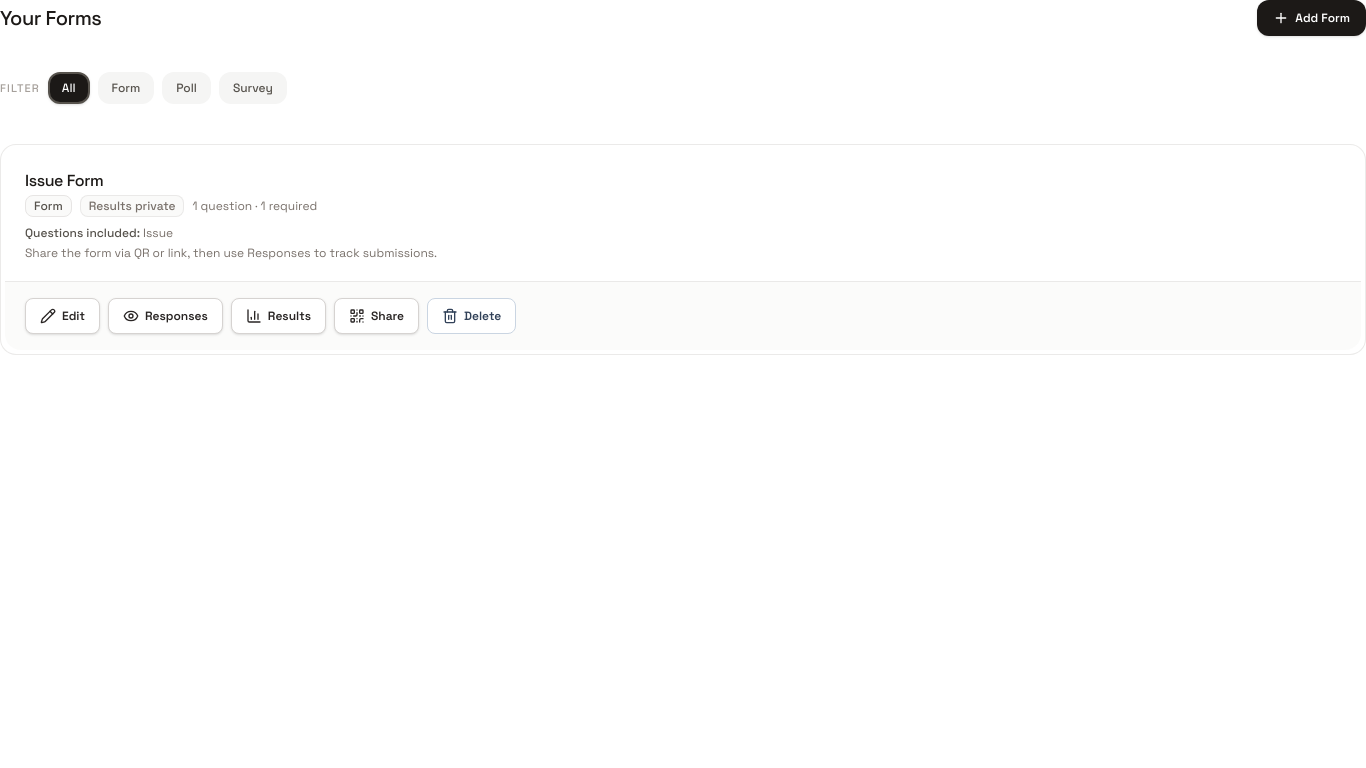
it: FormsPage › shows fallback QR error when backend does not provide error message
Check: the text "Issue Form" is shown, box [25,170,103,191]
Step 1. Click the button "Share" → (377, 316), box [334,298,419,334]
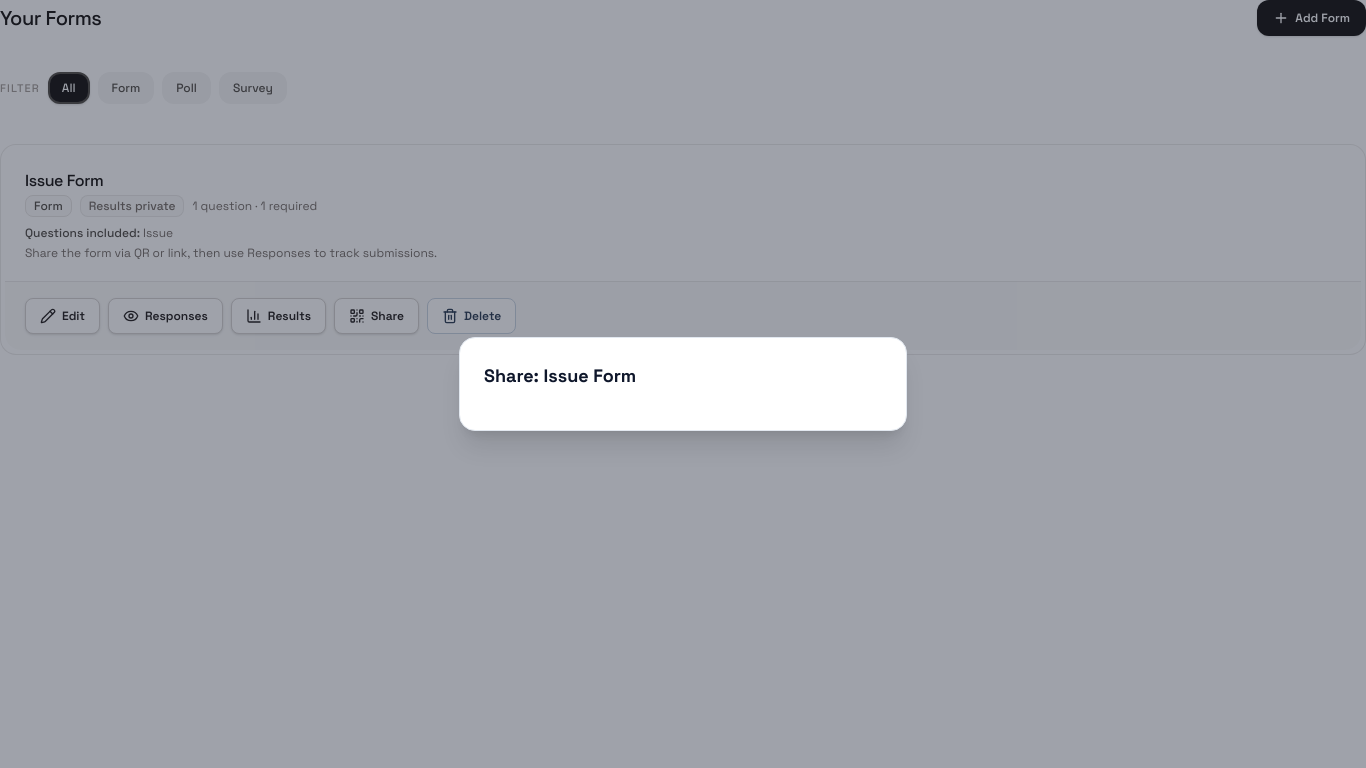
Check: the heading "Share: Issue Form" is shown, box [484,364,636,387]
